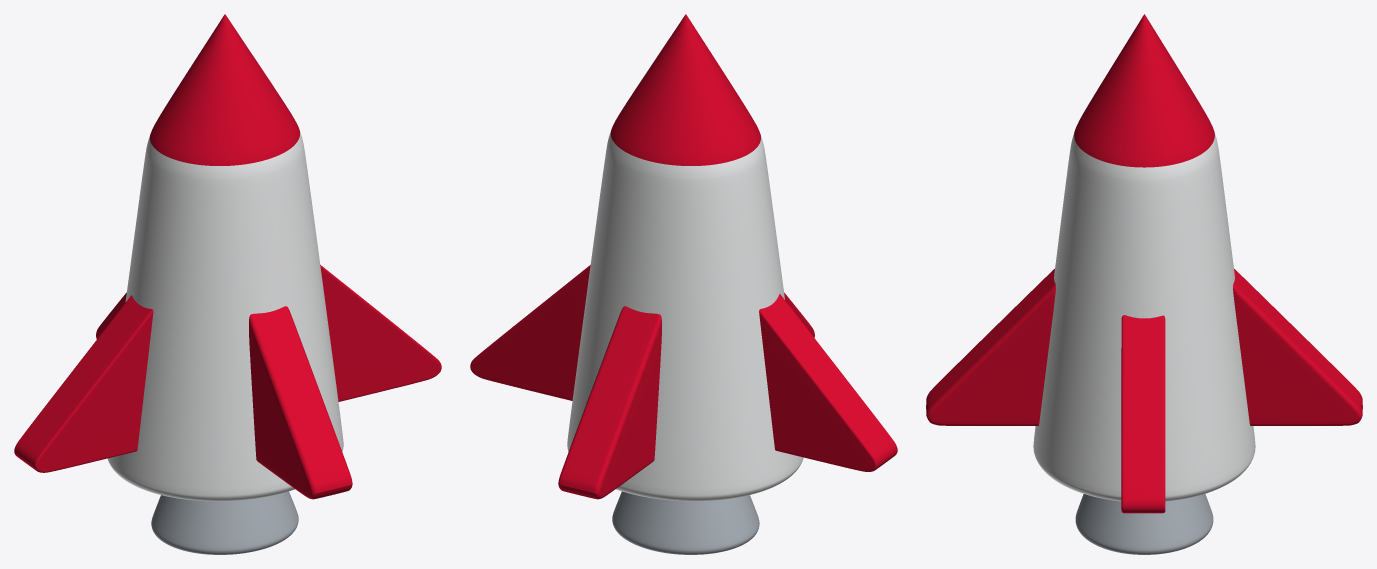
The model's file is Rocket.fbx.
The picture shows the model from 3 angles, left to right: view 1: azimuth 30°, elevation 25°; view 2: azimuth 150°, elevation 25°; view 3: azimuth 270°, elevation 25°; orthographic projection.
Visible parts, largest first — view 1: Cylinder.001, Plane, Plane.001; view 2: Cylinder.001, Plane, Plane.001; view 3: Cylinder.001, Plane.001, Plane.
Boxes of the visible parts, box(x1,y1,x2,y2) form: Cylinder.001: box(107, 14, 343, 554); Plane: box(14, 265, 441, 472); Plane.001: box(96, 292, 352, 499); Cylinder.001: box(567, 14, 803, 554); Plane: box(470, 265, 897, 471); Plane.001: box(558, 292, 814, 499); Cylinder.001: box(1033, 14, 1255, 554); Plane.001: box(926, 269, 1362, 425); Plane: box(1121, 315, 1165, 513).
Size of the model in its own units: 50.25 by 60.57 by 46.84.
